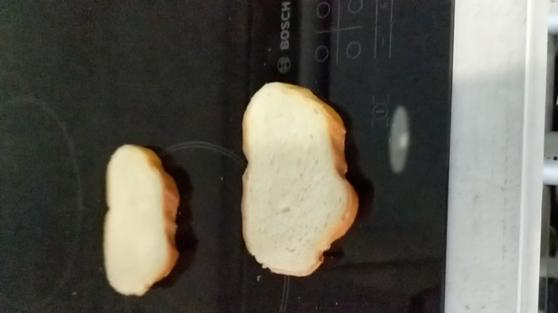white_bread: (241, 81, 357, 277), (104, 144, 182, 297)
